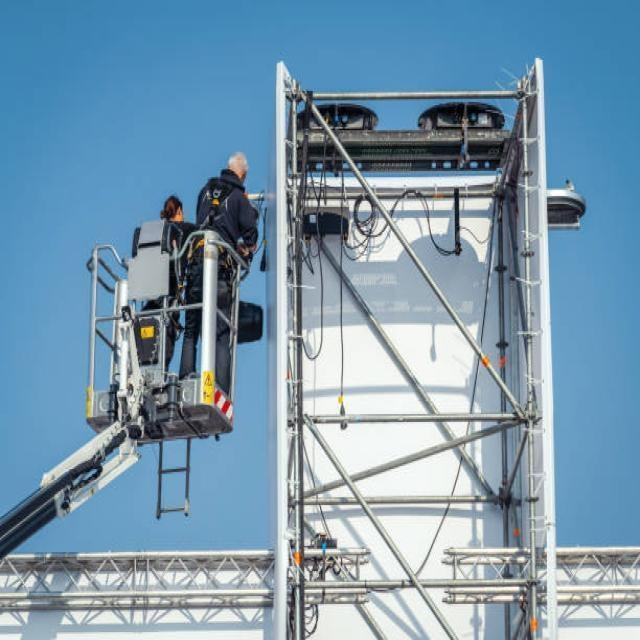Arnes_seguridad: (193, 178, 238, 309)
